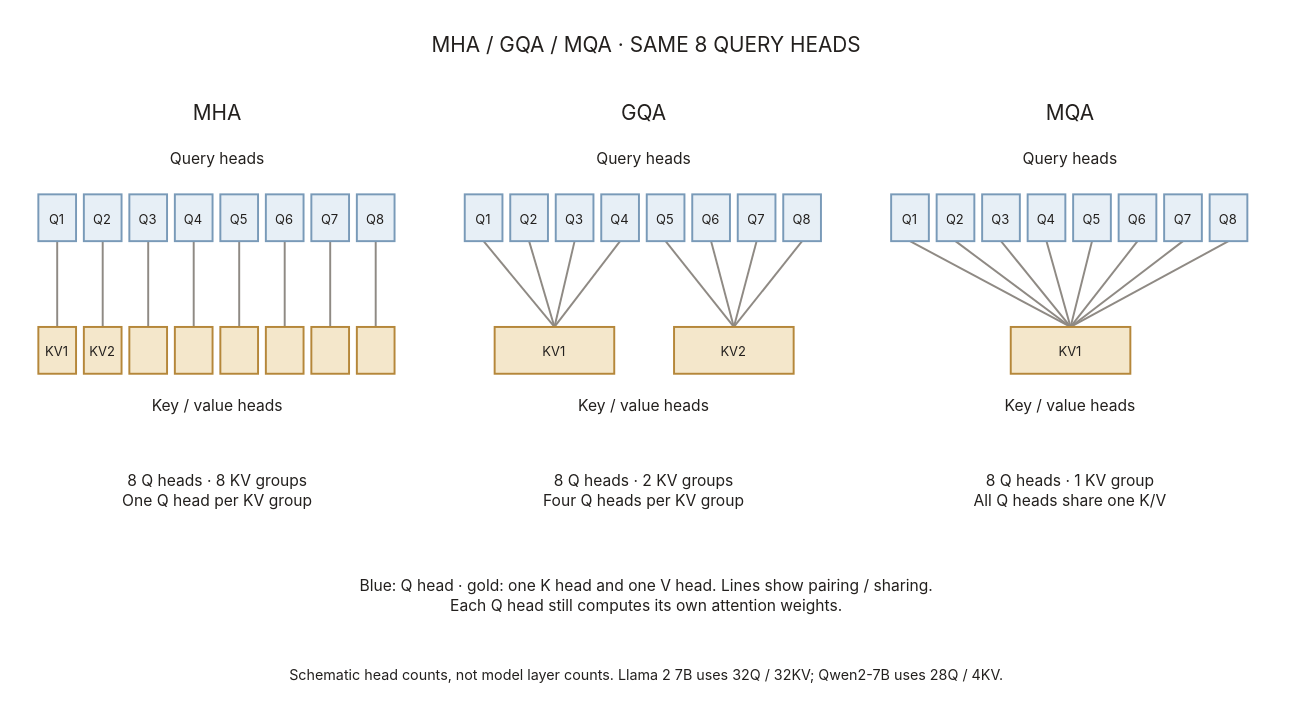
Some shapes in this 1292 by 725 pixel diagram are drawn without their labels. The shapes that lost their labels are listed below. From the top down, each one's centre as x and y in pixels, then its label:
At (x=147, y=349): "KV3".
At (x=193, y=349): "KV4".
At (x=238, y=349): "KV5".
At (x=284, y=349): "KV6".
At (x=329, y=349): "KV7".
At (x=375, y=349): "KV8".
